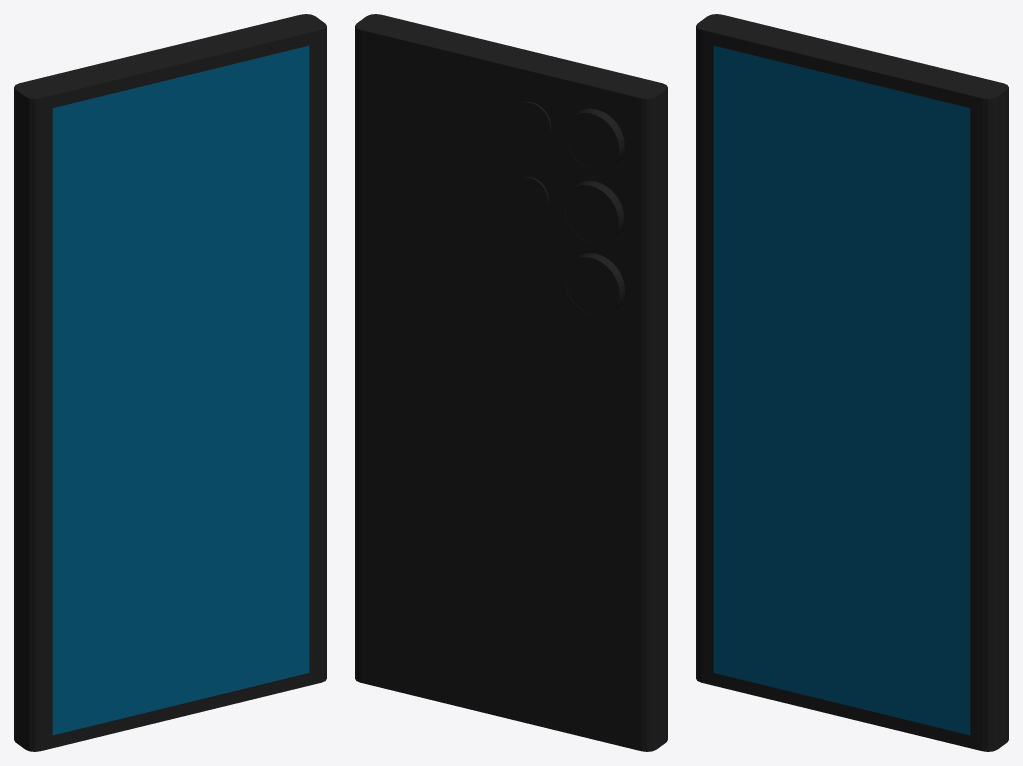
The model's file is CellphoneV2.0(1).fbx.
3 renders of one model, left to right at view 1: azimuth 30°, elevation 25°; view 2: azimuth 150°, elevation 25°; view 3: azimuth 330°, elevation 25°, orthographic.
Parts seen in each view (by area): view 1: Celular; view 2: Celular; view 3: Celular.
Boxes of the visible parts, left/top/right/bottom form: Celular: left=14, top=14, right=326, bottom=751; Celular: left=355, top=14, right=667, bottom=751; Celular: left=696, top=14, right=1008, bottom=751.
Size of the model in its own units: 186 by 386 by 28.17.
Materials: 1 (1 with a texture image).
